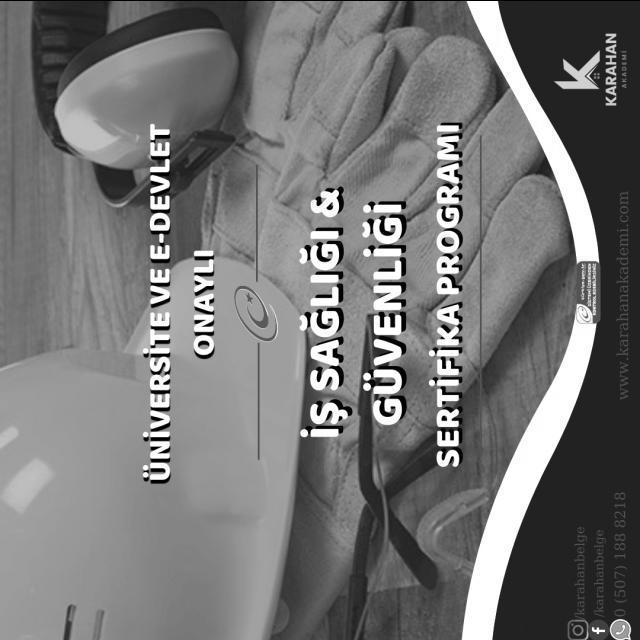safety_helmet: (0, 233, 308, 640)
